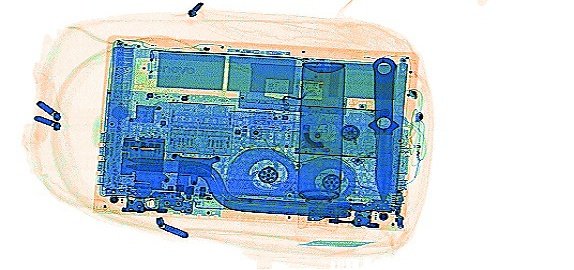knife: (370, 54, 398, 203)
pressure: (295, 60, 347, 230)
